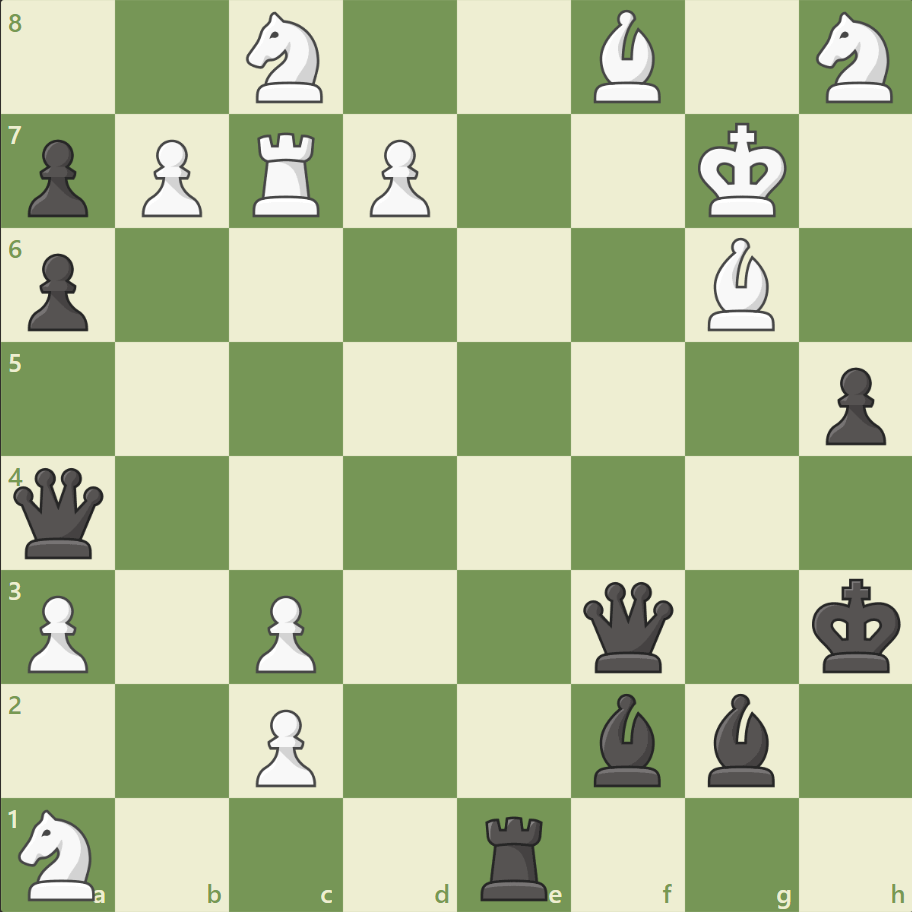B: (585, 6, 669, 109), (698, 233, 782, 336)
K: (692, 117, 792, 225)
N: (238, 7, 335, 110), (806, 7, 903, 110), (11, 802, 108, 904)
P: (133, 132, 208, 223), (20, 586, 95, 677), (247, 586, 322, 677), (247, 700, 322, 791), (361, 132, 435, 223)
R: (246, 125, 329, 222)
b: (585, 687, 669, 790), (698, 687, 782, 790)
k: (806, 571, 906, 679)
p: (20, 132, 95, 223), (20, 246, 95, 337), (815, 359, 889, 450)
q: (578, 576, 677, 676), (10, 463, 109, 562)
r: (473, 806, 556, 904)
